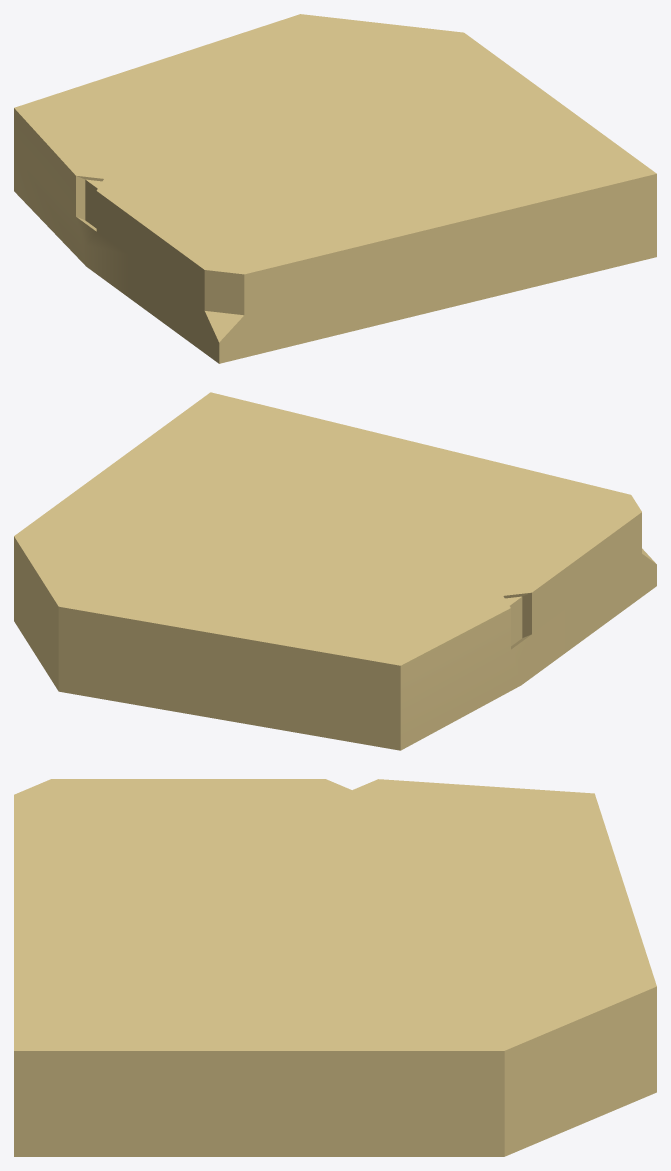
The model's file is Carved_Stones_6.fbx.
3 views of the same model, one above another, from view 1: azimuth 30°, elevation 25°; view 2: azimuth 150°, elevation 25°; view 3: azimuth 270°, elevation 25° (orthographic). The views are drawn at different scales.
Visible parts, largest first — view 1: MESH_Carved_Stones_6; view 2: MESH_Carved_Stones_6; view 3: MESH_Carved_Stones_6.
Part boxes in pixels (left/top/right/bottom): MESH_Carved_Stones_6: left=14, top=14, right=656, bottom=363; MESH_Carved_Stones_6: left=14, top=392, right=656, bottom=750; MESH_Carved_Stones_6: left=14, top=779, right=656, bottom=1156.
Bounding box in the file's own units: 2.28 × 0.4151 × 2.28.
